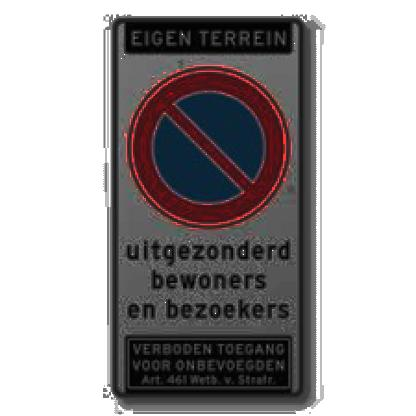No parking: (122, 64, 292, 231)
